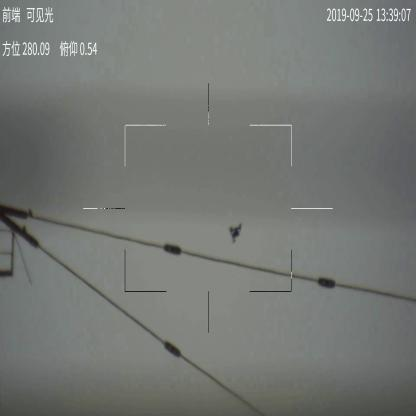uav: (228, 222, 245, 244)
